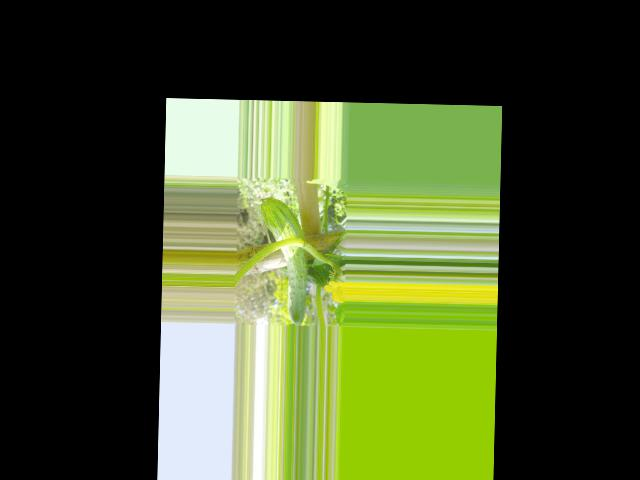cucumber: (259, 197, 309, 326)
